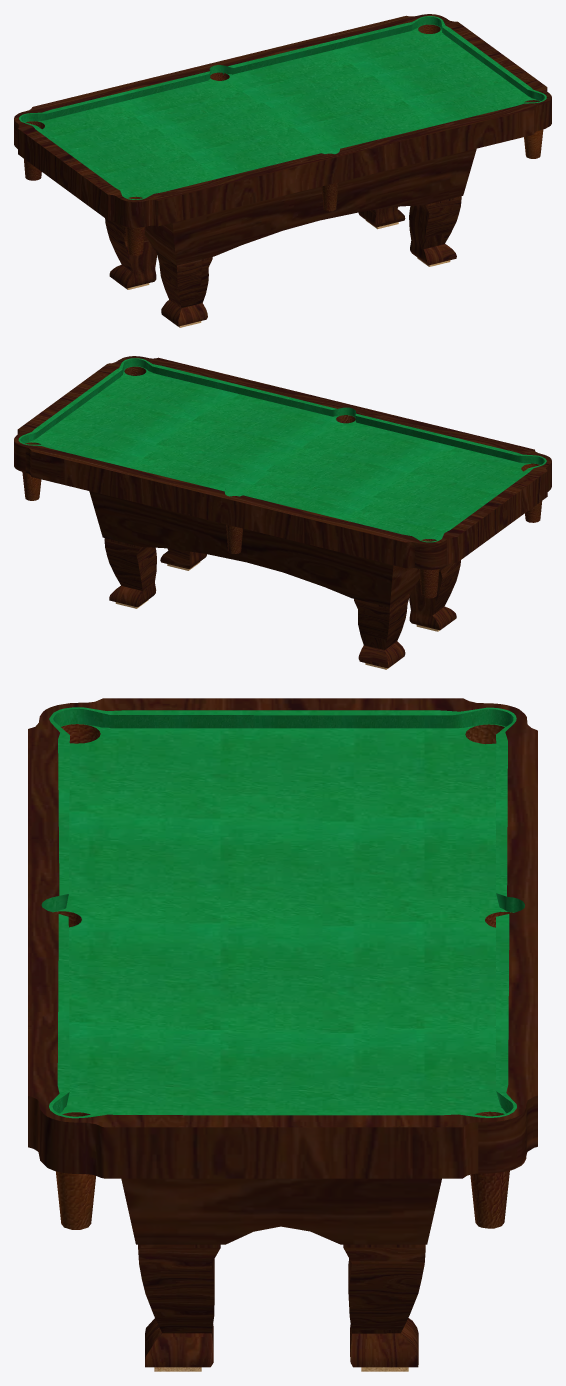
File: pool-table.mid.glb
The picture shows the model from 3 angles, top to bottom: view 1: azimuth 30°, elevation 25°; view 2: azimuth 150°, elevation 25°; view 3: azimuth 270°, elevation 25°; orthographic projection. The views are drawn at different scales.
Visible parts, largest first — view 1: group4_pasted__group_pasted__pasted__pCube15_aiStandardSurfa (×3); view 2: group4_pasted__group_pasted__pasted__pCube15_aiStandardSurfa (×3); view 3: group4_pasted__group_pasted__pasted__pCube15_aiStandardSurfa (×3).
Part boxes in pixels (x1,y1,x2,y2): group4_pasted__group_pasted__pasted__pCube15_aiStandardSurfa (×3): [14, 14, 551, 326]; group4_pasted__group_pasted__pasted__pCube15_aiStandardSurfa (×3): [14, 356, 551, 668]; group4_pasted__group_pasted__pasted__pCube15_aiStandardSurfa (×3): [28, 698, 537, 1367].
Bounding box in the file's own units: 2.54 × 0.9019 × 1.28.
4 materials, 4 textured.
